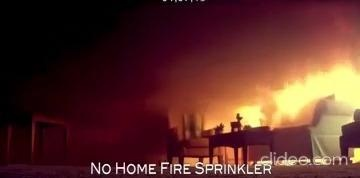fire: (216, 59, 360, 132)
